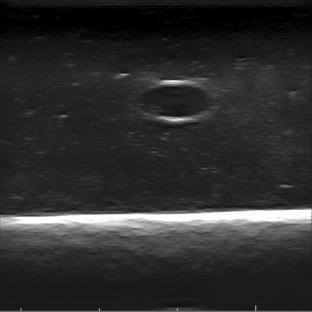vessel: (136, 79, 217, 123)
